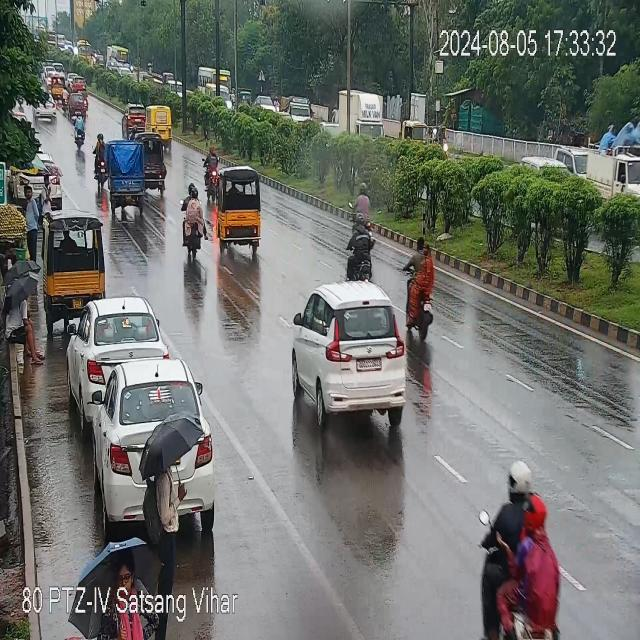2-wheelers: (481, 455, 573, 640), (402, 235, 436, 338), (344, 186, 380, 282), (182, 185, 206, 257), (203, 142, 223, 192), (73, 108, 86, 150), (431, 121, 448, 152), (63, 83, 68, 112)
auto: (44, 212, 108, 316), (214, 164, 265, 256), (108, 139, 146, 216), (145, 133, 166, 194), (147, 101, 171, 144), (402, 120, 427, 140), (50, 73, 64, 97), (66, 71, 84, 89)
bus: (198, 61, 230, 97), (107, 46, 129, 68)
car: (84, 362, 221, 538), (292, 282, 408, 422), (67, 297, 164, 395), (121, 99, 145, 138), (67, 89, 84, 121), (34, 96, 56, 118)
pedestrian: (154, 455, 182, 587), (4, 260, 37, 364), (107, 557, 143, 640), (26, 182, 39, 255), (41, 171, 51, 207)
truck: (586, 137, 639, 196), (341, 89, 384, 138)
